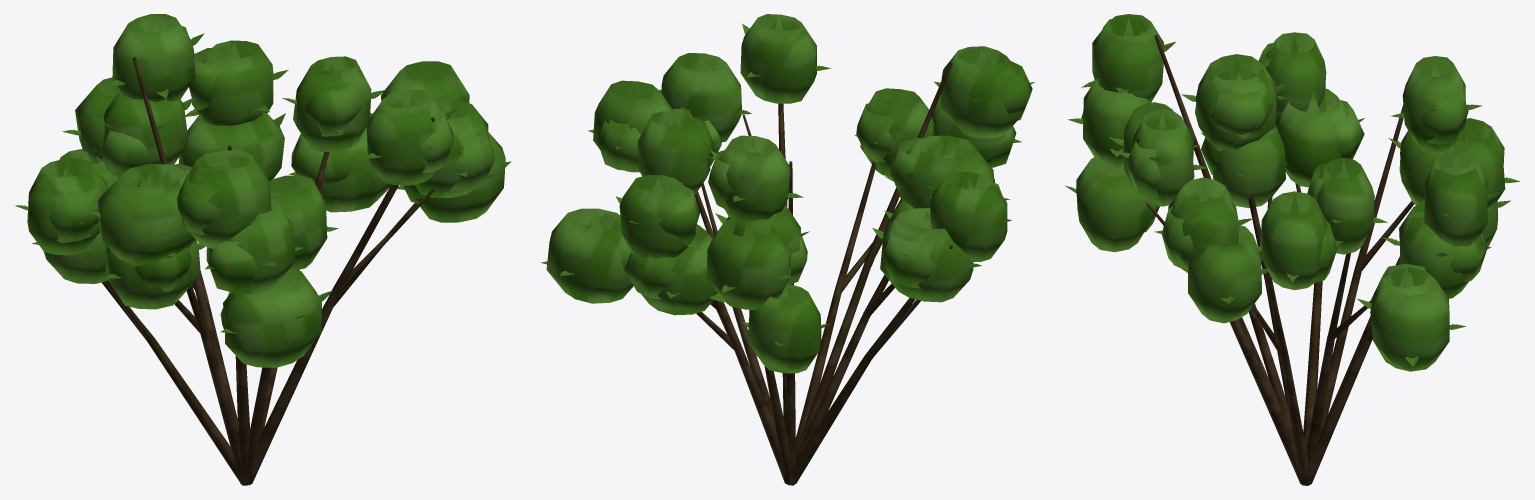
The model's file is filbert_01-lod0.glb.
3 renders of one model, left to right at view 1: azimuth 30°, elevation 25°; view 2: azimuth 150°, elevation 25°; view 3: azimuth 270°, elevation 25°, orthographic. The views are drawn at different scales.
Parts seen in each view (by area): view 1: TZ_filbert_shrub_Batch_00_LOD0, TZ_filbert_shrub_Batch_02_LOD0, TZ_filbert_shrub_Batch_01_LOD0; view 2: TZ_filbert_shrub_Batch_00_LOD0, TZ_filbert_shrub_Batch_02_LOD0, TZ_filbert_shrub_Batch_01_LOD0; view 3: TZ_filbert_shrub_Batch_00_LOD0, TZ_filbert_shrub_Batch_02_LOD0, TZ_filbert_shrub_Batch_01_LOD0.
Part boxes in pixels (x1,y1,x2,y2): TZ_filbert_shrub_Batch_00_LOD0: (27,14,505,367); TZ_filbert_shrub_Batch_02_LOD0: (101,57,434,485); TZ_filbert_shrub_Batch_01_LOD0: (15,33,511,333); TZ_filbert_shrub_Batch_00_LOD0: (546,14,1032,373); TZ_filbert_shrub_Batch_02_LOD0: (694,62,952,485); TZ_filbert_shrub_Batch_01_LOD0: (541,23,1034,346); TZ_filbert_shrub_Batch_00_LOD0: (1076,14,1505,371); TZ_filbert_shrub_Batch_02_LOD0: (1136,34,1414,485); TZ_filbert_shrub_Batch_01_LOD0: (1065,41,1519,366).
Size of the model in its own units: 1.86 by 1.65 by 1.65.
Materials: 3 (3 with a texture image).
